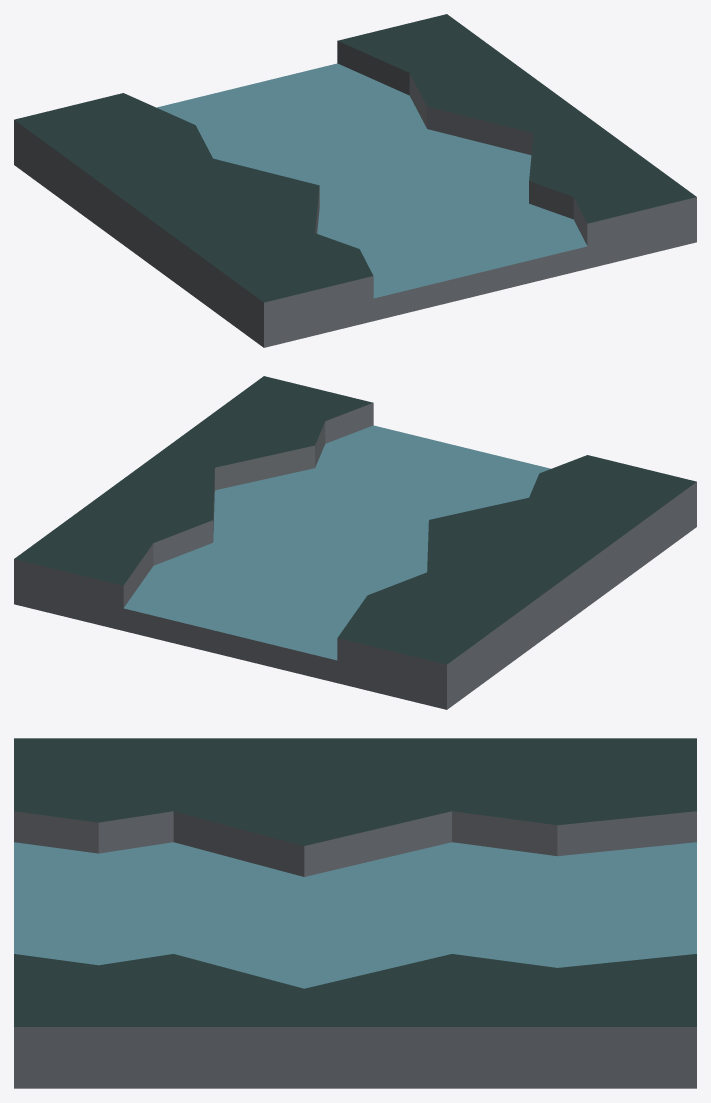
Rendered from Plate_River_01.obj.
3 views of the same model, one above another, from view 1: azimuth 30°, elevation 25°; view 2: azimuth 150°, elevation 25°; view 3: azimuth 270°, elevation 25° (orthographic). The views are drawn at different scales.
Parts seen in each view (by area): view 1: Mesh1_Plate_River_Model; view 2: Mesh1_Plate_River_Model; view 3: Mesh1_Plate_River_Model.
Part boxes in pixels (box(x1,y1,x2,y2)): Mesh1_Plate_River_Model: box(14, 14, 696, 347); Mesh1_Plate_River_Model: box(14, 376, 696, 709); Mesh1_Plate_River_Model: box(14, 738, 696, 1088).
Size of the model in its own units: 3 by 0.3 by 3.
